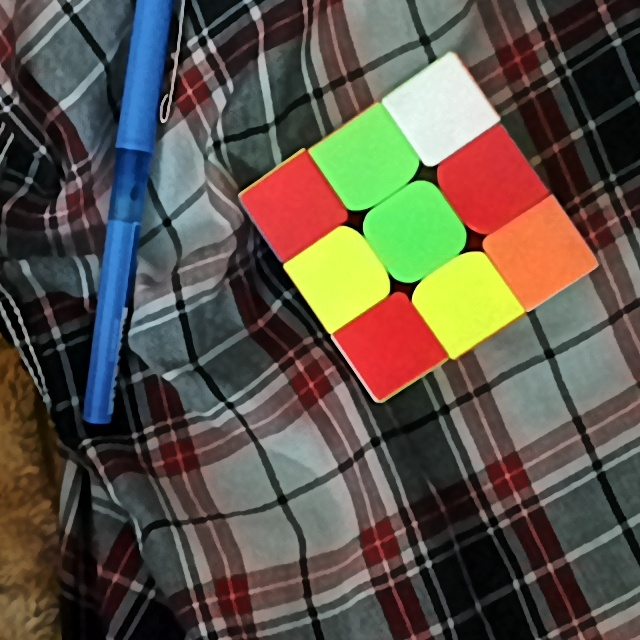tile: (333, 129, 400, 186), (388, 200, 446, 263), (409, 81, 469, 141), (510, 225, 572, 282), (464, 150, 520, 212), (366, 313, 420, 376), (438, 273, 493, 331), (312, 247, 366, 304), (266, 182, 324, 235)
